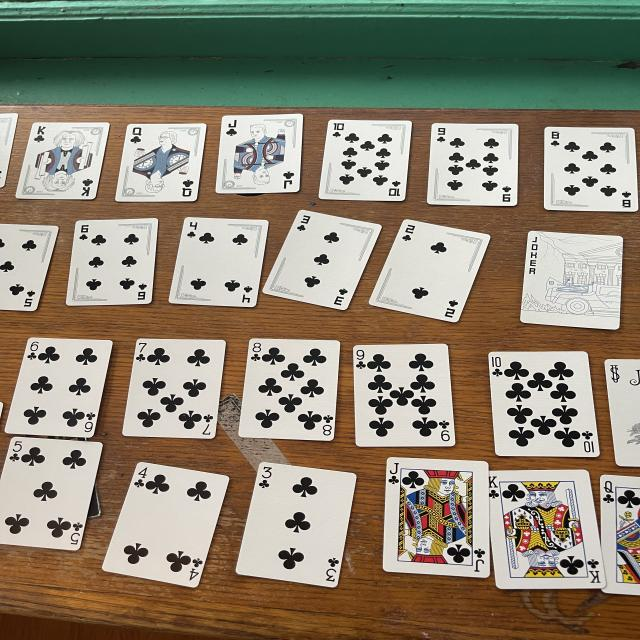10 of clubs: (490, 353, 596, 456), (320, 121, 410, 199)
2 of clubs: (370, 220, 491, 322)
3 of clubs: (236, 464, 356, 585), (265, 211, 380, 310)
4 of clubs: (104, 464, 228, 587), (169, 219, 267, 307)
5 of clubs: (0, 438, 103, 550), (0, 224, 59, 311)
6 of clubs: (6, 338, 112, 437), (67, 220, 156, 305)
7 of clubs: (122, 339, 223, 438)
8 of clubs: (238, 339, 339, 439), (545, 129, 636, 211)
9 of clubs: (355, 346, 453, 444), (429, 123, 518, 204)
Jack of clubs: (385, 458, 487, 577), (217, 115, 300, 193)
Joker: (521, 232, 622, 328), (606, 360, 640, 466)
King of clubs: (490, 471, 606, 588), (16, 123, 107, 199)
Queen of clubs: (116, 124, 205, 201), (601, 476, 640, 595)
